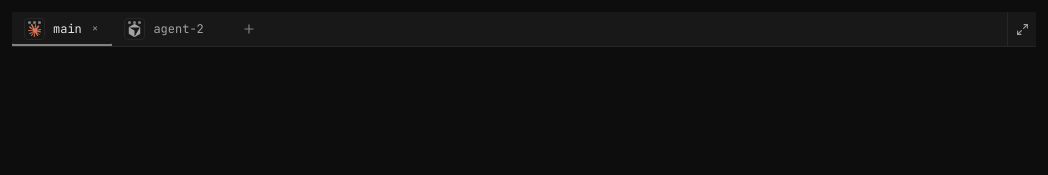
it: TabsStrip › 3.T1 — agent tabs render a mode icon and NO emoji channel marker; the reset popup shows the full name
Expected: the 2nd picture with class "mode-icon" is shown, [124,18,145,40]
// Right-click opens the reset menu, which carries the FULL session name.
Right-click the tab "agent-2" at (173, 30), box [112,12,234,47]
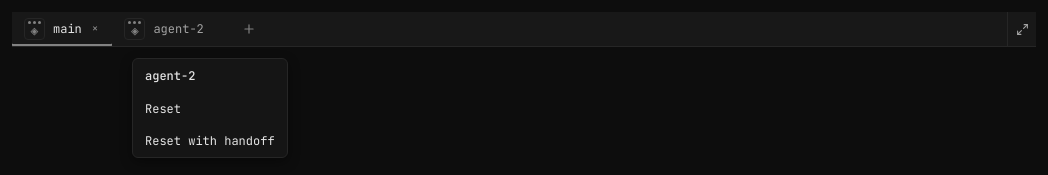
Result: the 2nd text "agent-2" is shown at [145,68,195,84]
